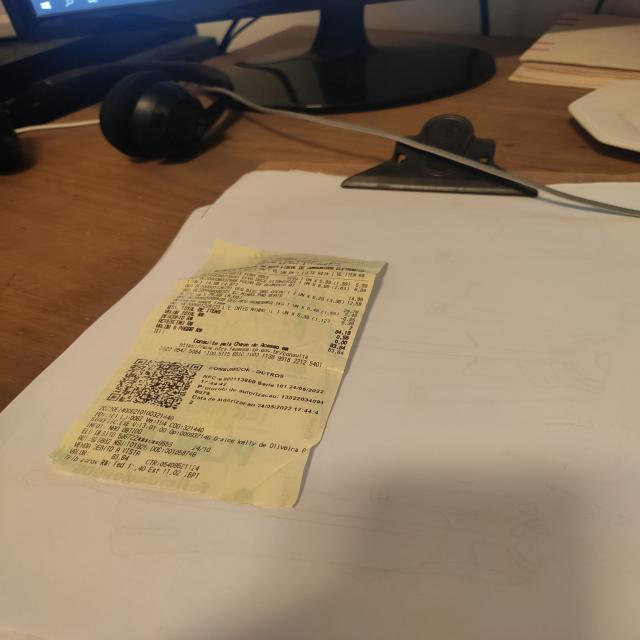qrcode: (108, 359, 204, 411)
